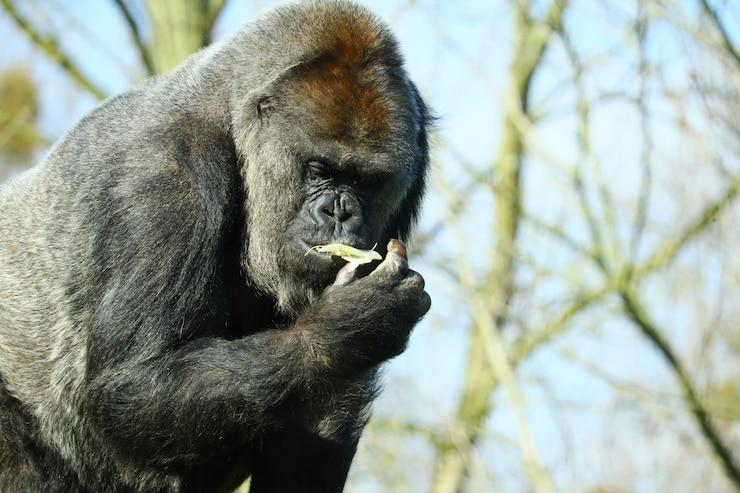gorille_Autres: (0, 0, 463, 493)
